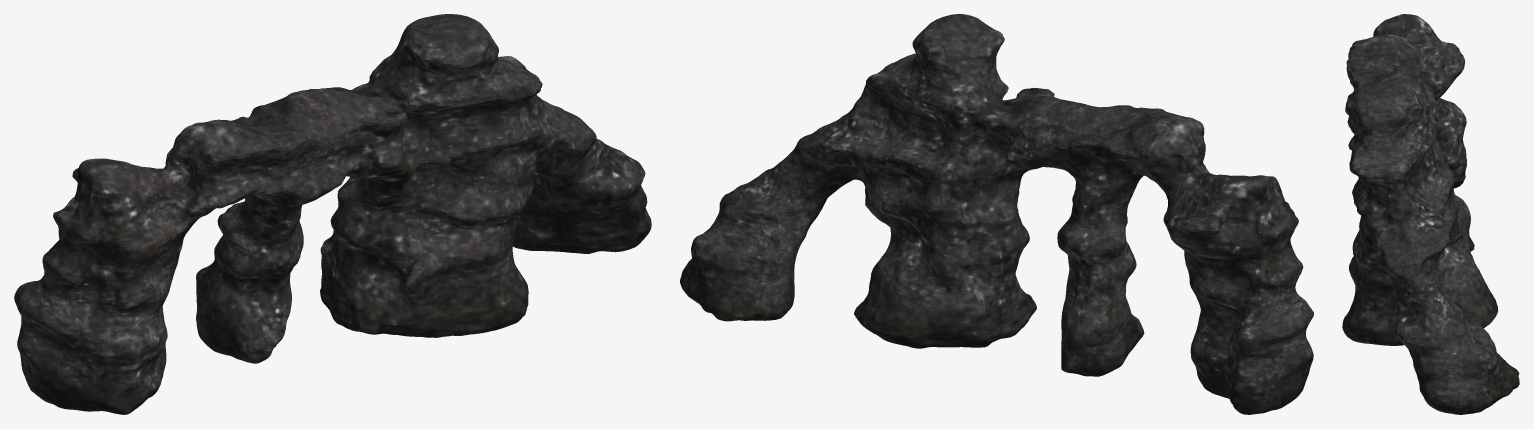
3 views of the same model, side by side, from view 1: azimuth 30°, elevation 25°; view 2: azimuth 150°, elevation 25°; view 3: azimuth 270°, elevation 25° (orthographic). The views are drawn at different scales.
Parts seen in each view (by area): view 1: Node; view 2: Node; view 3: Node.
Boxes of the visible parts, x1,y1,x2,y2 form: Node: (14, 14, 651, 414); Node: (680, 14, 1313, 414); Node: (1342, 14, 1519, 414).
Bounding box in the file's own units: 1.93 × 0.869 × 0.5863.
Materials: 1 (1 with a texture image).
